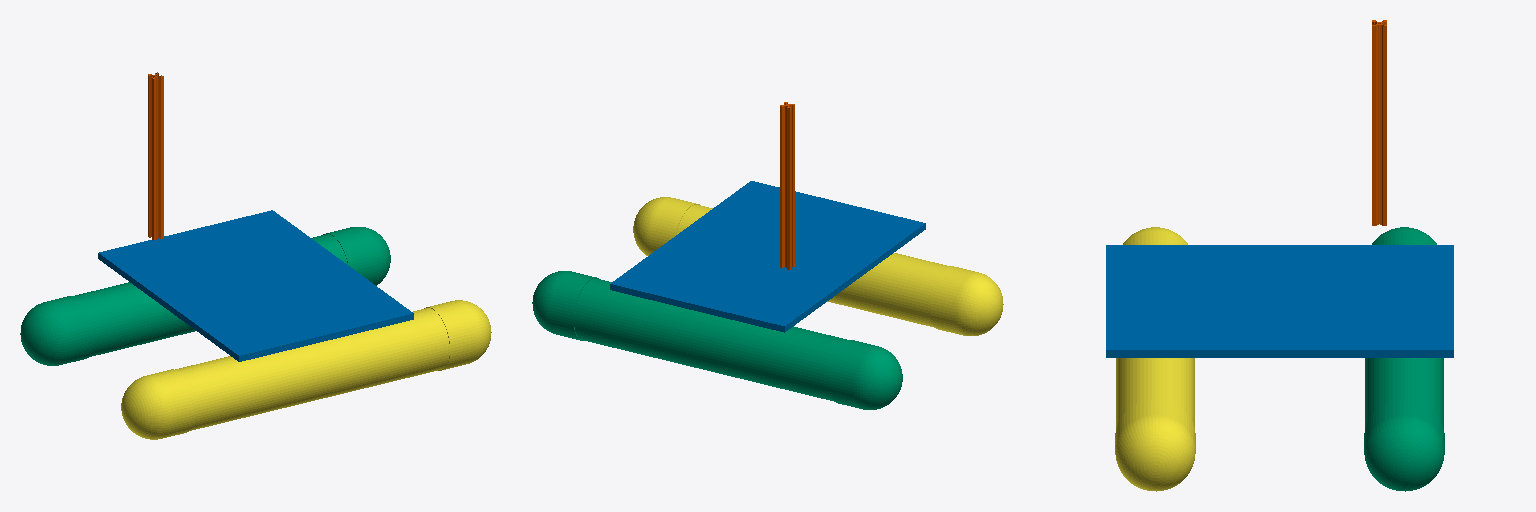
URDF robot description (asv_station_keeping_diag):
<?xml version='1.0' encoding='utf-8'?>
<robot name="asv_station_keeping_diag">
  <!-- Mesh-loading test only. Mounting poses are estimates, not Fusion occurrence transforms. 00_base has no visuals. -->
  <link name="base_footprint" />
  <link name="base_link">
    <inertial>
      <origin xyz="0 0 0" rpy="0 0 0" />
      <mass value="0.1" />
      <inertia ixx="0.0001" ixy="0" ixz="0" iyy="0.0001" iyz="0" izz="0.0001" />
    </inertial>
  </link>
  <link name="hull_left">
    <inertial>
      <origin xyz="0.0017543 -0.0000047 -0.0000010" rpy="0 0 0" />
      <mass value="8.7513272838" />
      <inertia ixx="0.0159438897" ixy="0" ixz="0" iyy="0.7485544942" iyz="0" izz="0.7485544942" />
    </inertial>
    <visual name="hull_left_visual">
      <origin xyz="-0.971730 0.357754 -1.641617" rpy="0 0 -1.57079632679" />
      <geometry>
        <mesh filename="package://asv_station_keeping/meshes/hull.stl" scale="0.001 0.001 0.001" />
      </geometry>
    </visual>
    <collision name="hull_left_collision">
      <geometry>
        <box size="0.724805 0.112973 0.112998" />
      </geometry>
    </collision>
  </link>
  <link name="hull_right">
    <inertial>
      <origin xyz="0.0017543 -0.0000047 -0.0000010" rpy="0 0 0" />
      <mass value="8.7513272838" />
      <inertia ixx="0.0159438897" ixy="0" ixz="0" iyy="0.7485544942" iyz="0" izz="0.7485544942" />
    </inertial>
    <visual name="hull_right_visual">
      <origin xyz="-0.971730 0.357754 -1.641617" rpy="0 0 -1.57079632679" />
      <geometry>
        <mesh filename="package://asv_station_keeping/meshes/hull.stl" scale="0.001 0.001 0.001" />
      </geometry>
    </visual>
    <collision name="hull_right_collision">
      <geometry>
        <box size="0.724805 0.112973 0.112998" />
      </geometry>
    </collision>
  </link>
  <link name="base_deck">
    <inertial>
      <origin xyz="0 0 0" rpy="0 0 0" />
      <mass value="16.1553" />
      <inertia ixx="0.3234344911" ixy="0" ixz="0" iyy="0.1651125511" iyz="0" izz="0.4881593150" />
    </inertial>
    <visual name="base_deck_visual">
      <origin xyz="-0.142254 -0.216347 -0.006000" rpy="1.57079632679 0 0" />
      <geometry>
        <mesh filename="package://asv_station_keeping/meshes/base_deck.stl" scale="0.001 0.001 0.001" />
      </geometry>
    </visual>
    <collision name="base_deck_collision">
      <geometry>
        <box size="0.350 0.490 0.012" />
      </geometry>
    </collision>
  </link>
  <link name="frame1_left">
    <inertial>
      <origin xyz="0 0 0" />
      <mass value="0.41469714" />
      <inertia ixx="0.00333785" ixy="0" ixz="0" iyy="0.00333785" iyz="0" izz="0.0000336422" />
    </inertial>
    <visual>
      <geometry>
        <mesh filename="package://asv_station_keeping/meshes/frame1.stl" scale="0.001 0.001 0.001" />
      </geometry>
    </visual>
    <collision>
      <geometry>
        <cylinder radius="0.010" length="0.310" />
      </geometry>
    </collision>
  </link>
  <joint name="base_footprint_to_base_link" type="fixed">
    <parent link="base_footprint" />
    <child link="base_link" />
    <origin xyz="0 0 0" rpy="0 0 0" />
  </joint>
  <joint name="base_to_hull_left" type="fixed">
    <parent link="base_link" />
    <child link="hull_left" />
    <origin xyz="0 0.175 0.055" rpy="0 0 0" />
  </joint>
  <joint name="base_to_hull_right" type="fixed">
    <parent link="base_link" />
    <child link="hull_right" />
    <origin xyz="0 -0.175 0.055" rpy="0 0 0" />
  </joint>
  <joint name="base_to_base_deck" type="fixed">
    <parent link="base_link" />
    <child link="base_deck" />
    <origin xyz="0 0 0.145" rpy="0 0 0" />
  </joint>
  <joint name="deck_to_frame1_left" type="fixed">
    <parent link="base_deck" />
    <child link="frame1_left" />
    <origin xyz="-0.12 0.14 0.22" />
  </joint>
</robot>

--- Render facts (derived) ---
The picture shows the robot from 3 angles, left to right: view 1: azimuth 30°, elevation 25°; view 2: azimuth 150°, elevation 25°; view 3: azimuth 270°, elevation 25°; orthographic projection.
Model asv_station_keeping_diag with 6 links and 5 joints (5 fixed), rooted at base_footprint, posed all joints at 0.
Visible links, largest first — view 1: base_deck, hull_right, hull_left, frame1_left; view 2: base_deck, hull_left, hull_right, frame1_left; view 3: base_deck, hull_left, hull_right, frame1_left.
Link boxes in pixels (x1,y1,x2,y2): base_deck: (98,210,413,361); hull_right: (121,300,491,439); hull_left: (20,227,390,365); frame1_left: (148,72,163,240); base_deck: (610,181,925,332); hull_left: (532,271,902,409); hull_right: (633,197,1003,335); frame1_left: (780,102,794,269); base_deck: (1106,245,1453,357); hull_left: (1364,227,1444,491); hull_right: (1115,227,1195,491); frame1_left: (1372,20,1386,225).
Bounding box of the posed robot: 0.7248 × 0.49 × 0.5215 m (x, y, z).
Meshes: 3 distinct files referenced, 4 mesh visuals loaded (3 binary STL).
